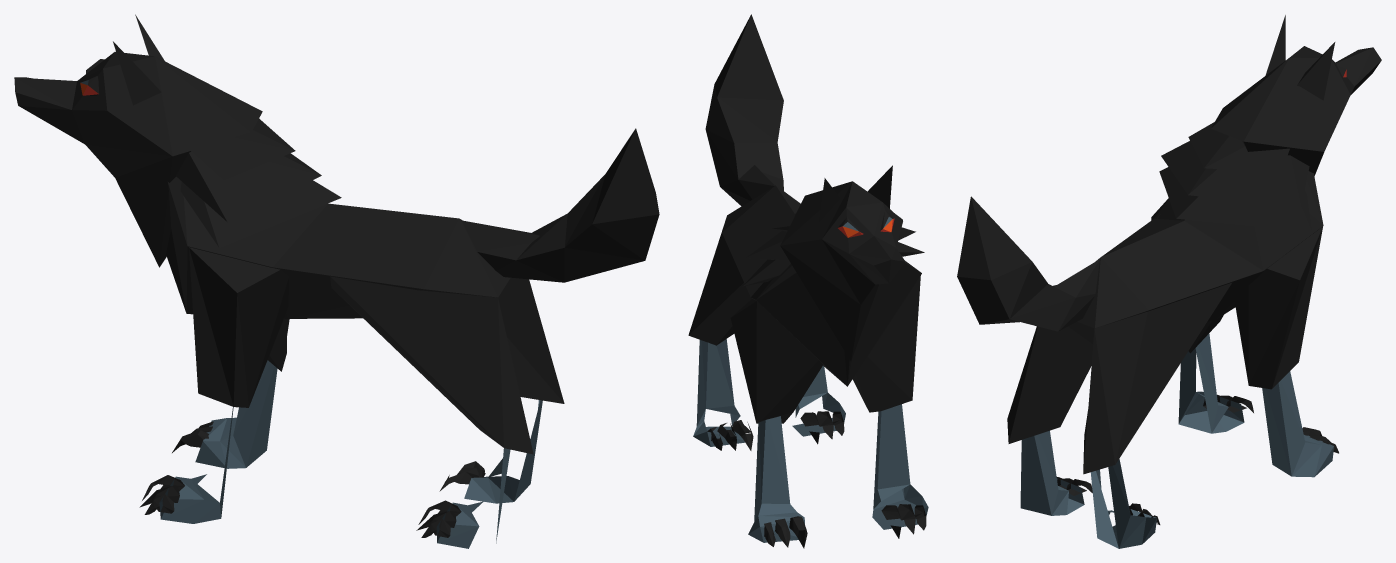
The model's file is scene_H19LttW8cf.glb.
3 views of the same model, side by side, from view 1: azimuth 30°, elevation 25°; view 2: azimuth 150°, elevation 25°; view 3: azimuth 270°, elevation 25° (orthographic). The views are drawn at different scales.
Parts seen in each view (by area): view 1: group976300911, group1868817266, group497244013, group1966666796, group963624585, group238385672, group267782866, group1544550016, group1897308819, group1283989906, group984169359, group2036554331 (+1 smaller); view 2: group1868817266, group976300911, group1966666796, group595797906, group963624585, group1283989906, group1544550016, group2036554331, group267782866, group529167443, group1897308819, group238385672; view 3: group976300911, group267782866, group1868817266, group1966666796, group595797906, group497244013, group238385672, group1544550016, group1897308819, group1283989906, group529167443, group2036554331 (+1 smaller).
Part boxes in pixels (<box>): group976300911: <box>166,176,510,318</box>; group1868817266: <box>14,14,262,267</box>; group497244013: <box>330,276,533,454</box>; group1966666796: <box>461,128,659,282</box>; group963624585: <box>189,247,288,407</box>; group238385672: <box>176,152,321,222</box>; group267782866: <box>498,277,564,403</box>; group1544550016: <box>172,360,277,468</box>; group1897308819: <box>180,180,341,247</box>; group1283989906: <box>139,407,233,523</box>; group984169359: <box>191,118,295,180</box>; group2036554331: <box>439,400,542,503</box>; group1868817266: <box>780,165,905,361</box>; group976300911: <box>722,185,921,386</box>; group1966666796: <box>705,14,783,206</box>; group595797906: <box>730,298,823,423</box>; group963624585: <box>852,275,920,412</box>; group1283989906: <box>872,404,928,538</box>; group1544550016: <box>748,416,807,548</box>; group2036554331: <box>693,339,753,450</box>; group267782866: <box>688,219,751,345</box>; group529167443: <box>792,366,845,444</box>; group1897308819: <box>742,242,924,286</box>; group238385672: <box>745,227,915,260</box>; group976300911: <box>1068,171,1323,344</box>; group267782866: <box>1083,282,1231,474</box>; group1868817266: <box>1211,15,1381,176</box>; group1966666796: <box>957,196,1099,331</box>; group595797906: <box>1234,226,1322,389</box>; group497244013: <box>1007,326,1093,443</box>; group238385672: <box>1161,141,1309,207</box>; group1544550016: <box>1262,371,1338,477</box>; group1897308819: <box>1159,167,1311,231</box>; group1283989906: <box>1178,333,1253,433</box>; group529167443: <box>1020,430,1092,515</box>; group2036554331: <box>1090,459,1160,548</box>.
Bounding box in the file's own units: 1.57 × 1.58 × 1.53.
